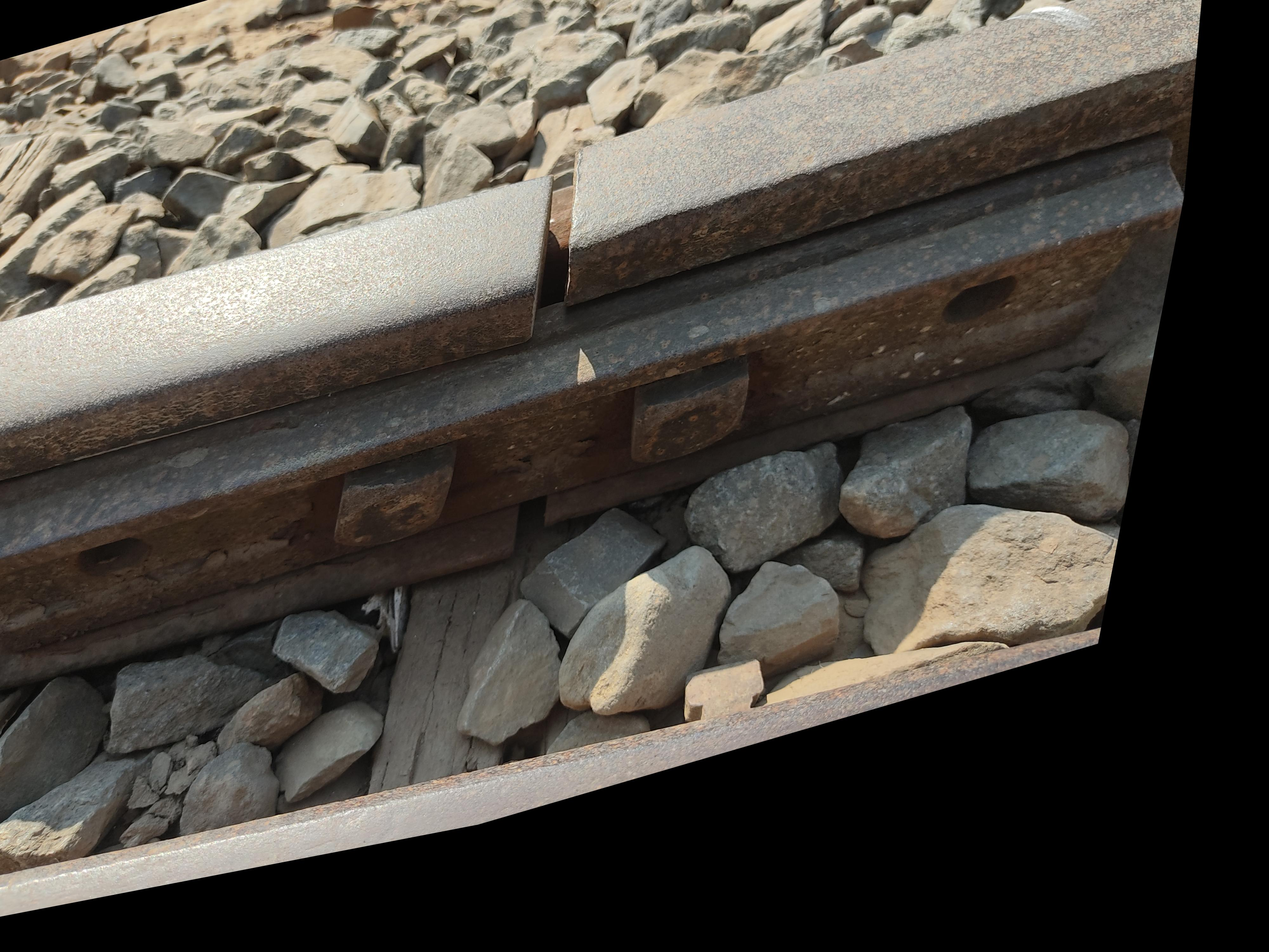person: (338, 161, 706, 498), (366, 504, 628, 738)
